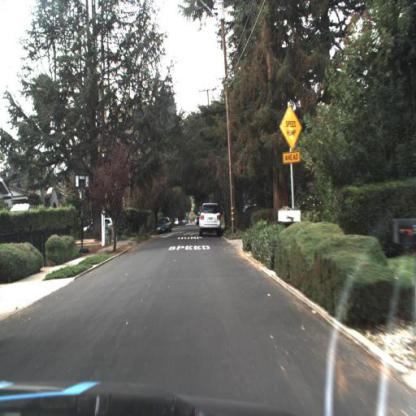car: (198, 200, 221, 235), (156, 214, 173, 237)
